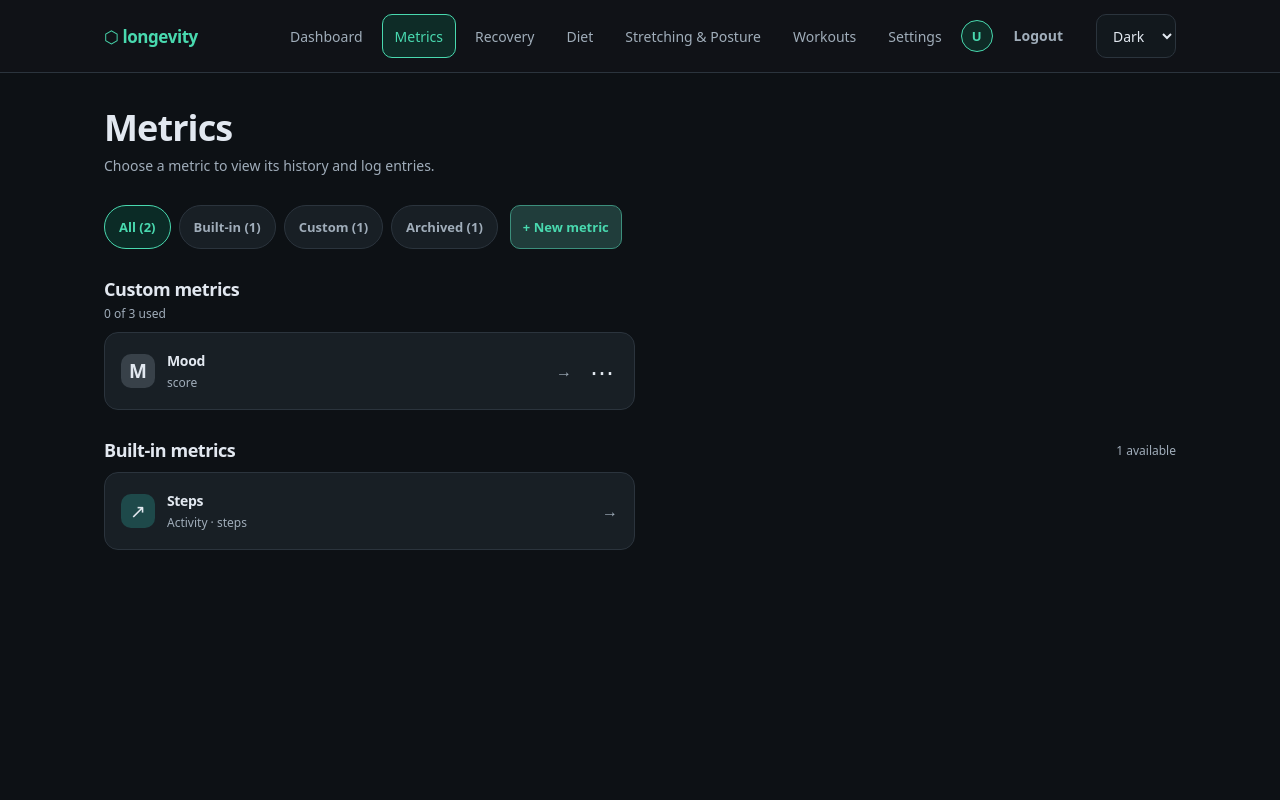
Test case: metrics route › filters active and archived definitions while counting availability, with custom metrics first
Expected: the button "Archived (1)" is shown, top-left (391, 205), bottom-right (498, 249)
Expected: the element showing "M Mood score → ⋯" is shown, top-left (104, 332), bottom-right (635, 410)
What coordinates should you click on to do the following:
click the button "Built-in (1)"
I would click on:
 (227, 227)
Its box is top-left (178, 205), bottom-right (276, 249).
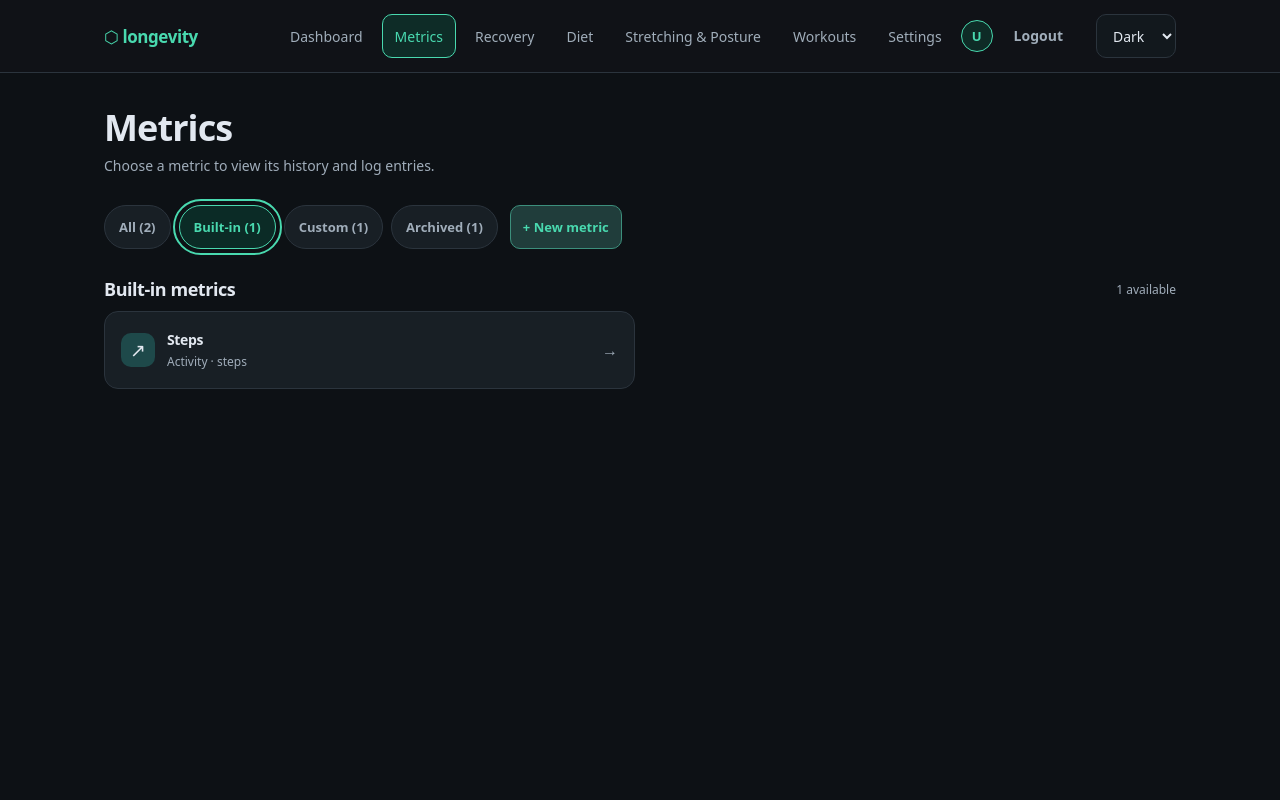
Expected: the link "↗ Steps Activity · steps →" is shown, top-left (121, 330), bottom-right (618, 370)
Expected: the link "Mood" is gone
What coordinates should you click on to do the following:
click the button "Custom (1)"
I would click on:
 (333, 227)
Its box is top-left (284, 205), bottom-right (383, 249).
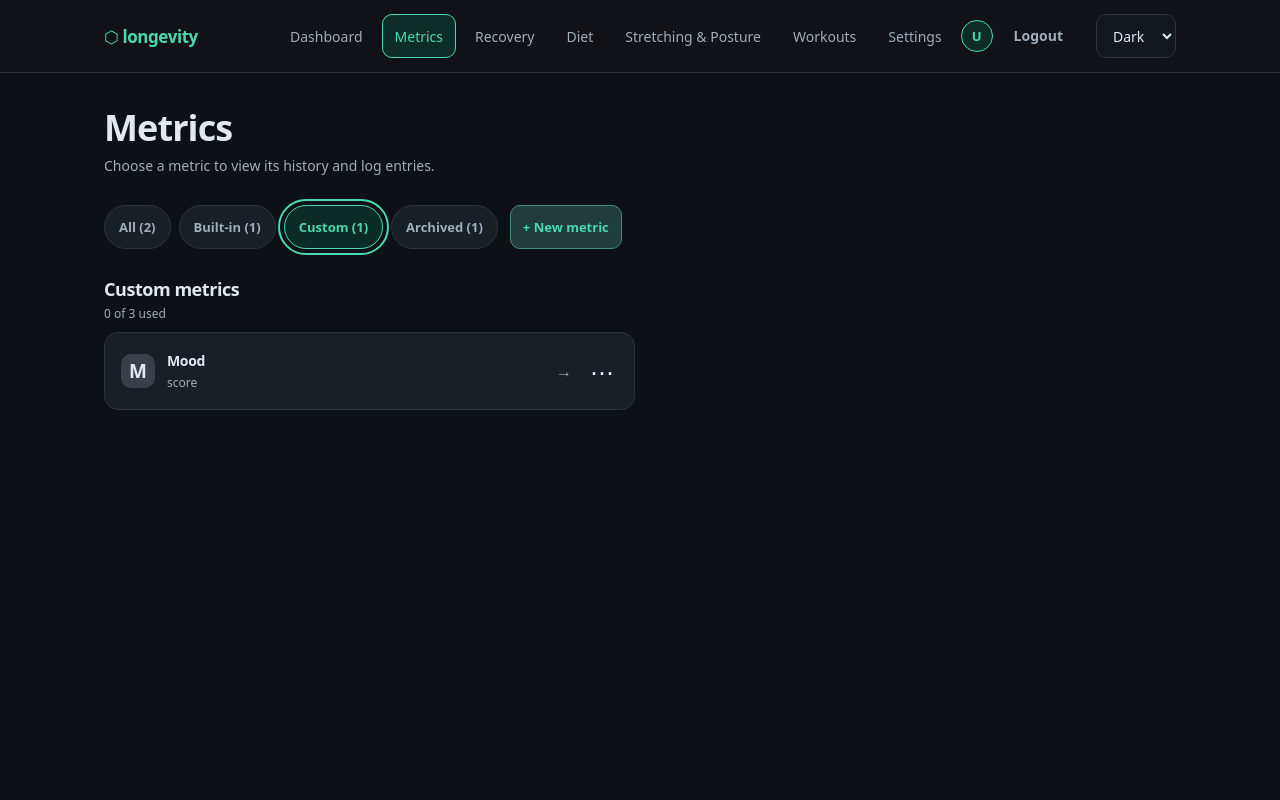
Expected: the link "Steps" is gone
Expected: the link "M Mood score →" is shown, top-left (121, 351), bottom-right (572, 392)
What coordinates should you click on to do the following:
click the button "Archived (1)"
I would click on:
 (444, 227)
Its box is top-left (391, 205), bottom-right (498, 249).
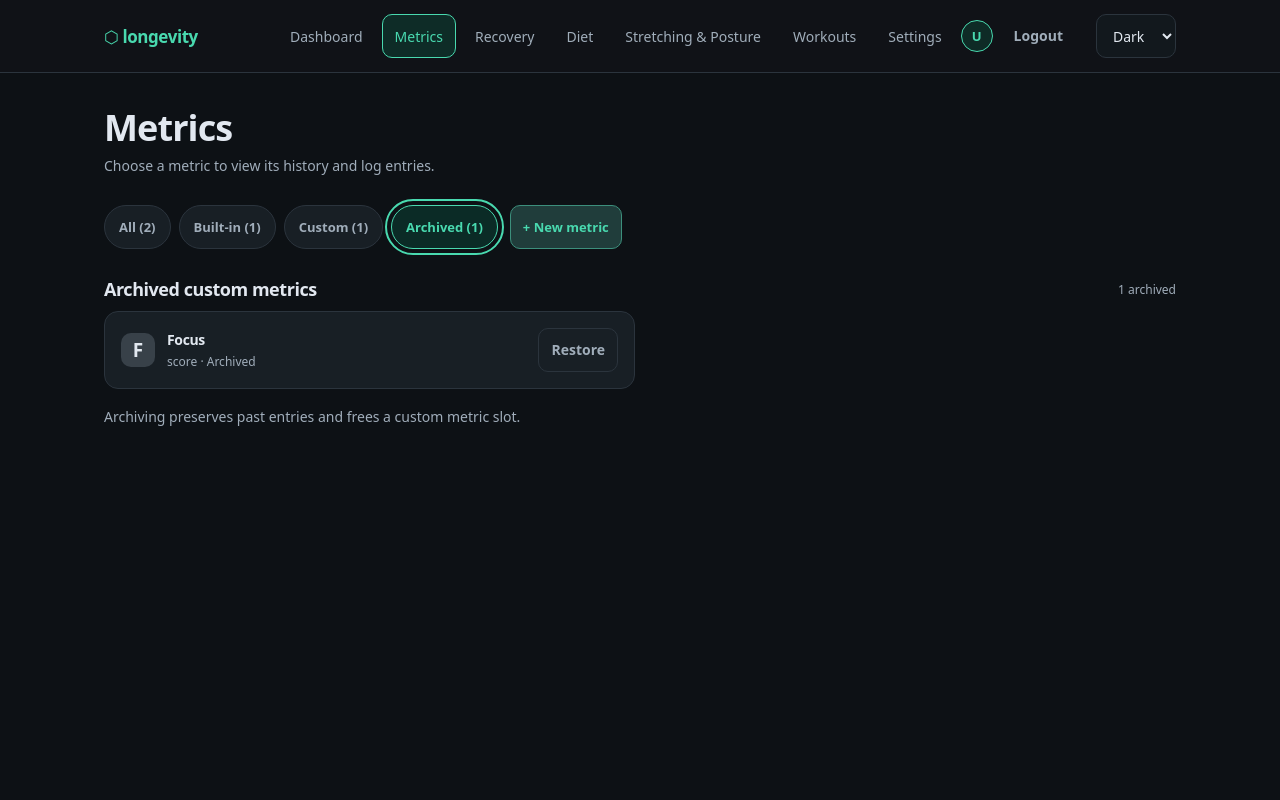
Expected: the button with aria-label "Restore Focus" is shown, top-left (538, 328), bottom-right (618, 372)
Expected: the link "Mood" is gone
What coordinates should you click on to do the following:
click the button "All (2)"
I would click on:
 (137, 227)
Its box is top-left (104, 205), bottom-right (170, 249).
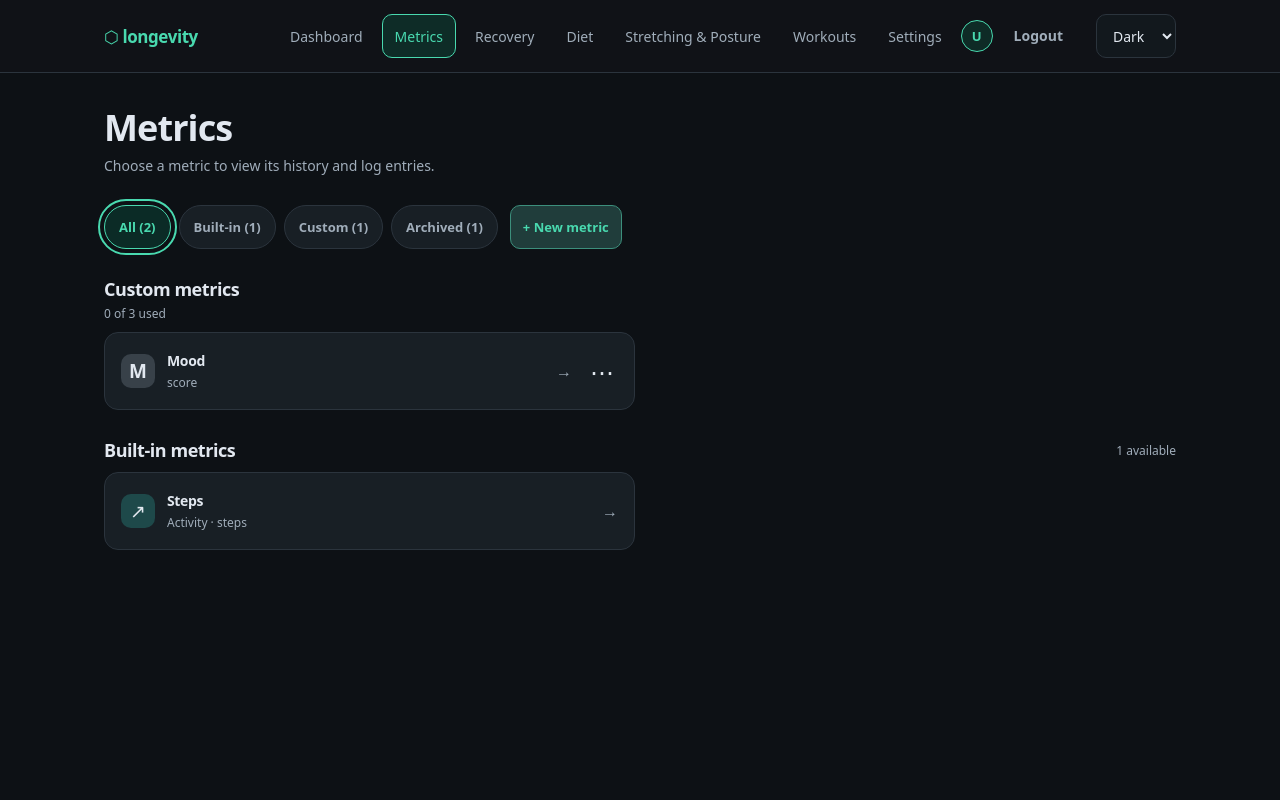
Expected: the link "M Mood score →" is shown, top-left (121, 351), bottom-right (572, 392)
